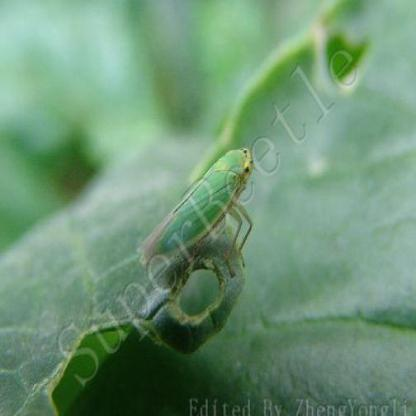Green-Leafhopper: (134, 141, 270, 282)
